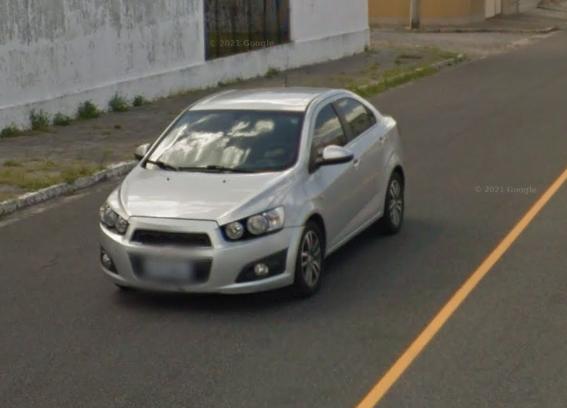car: (93, 75, 410, 306)
